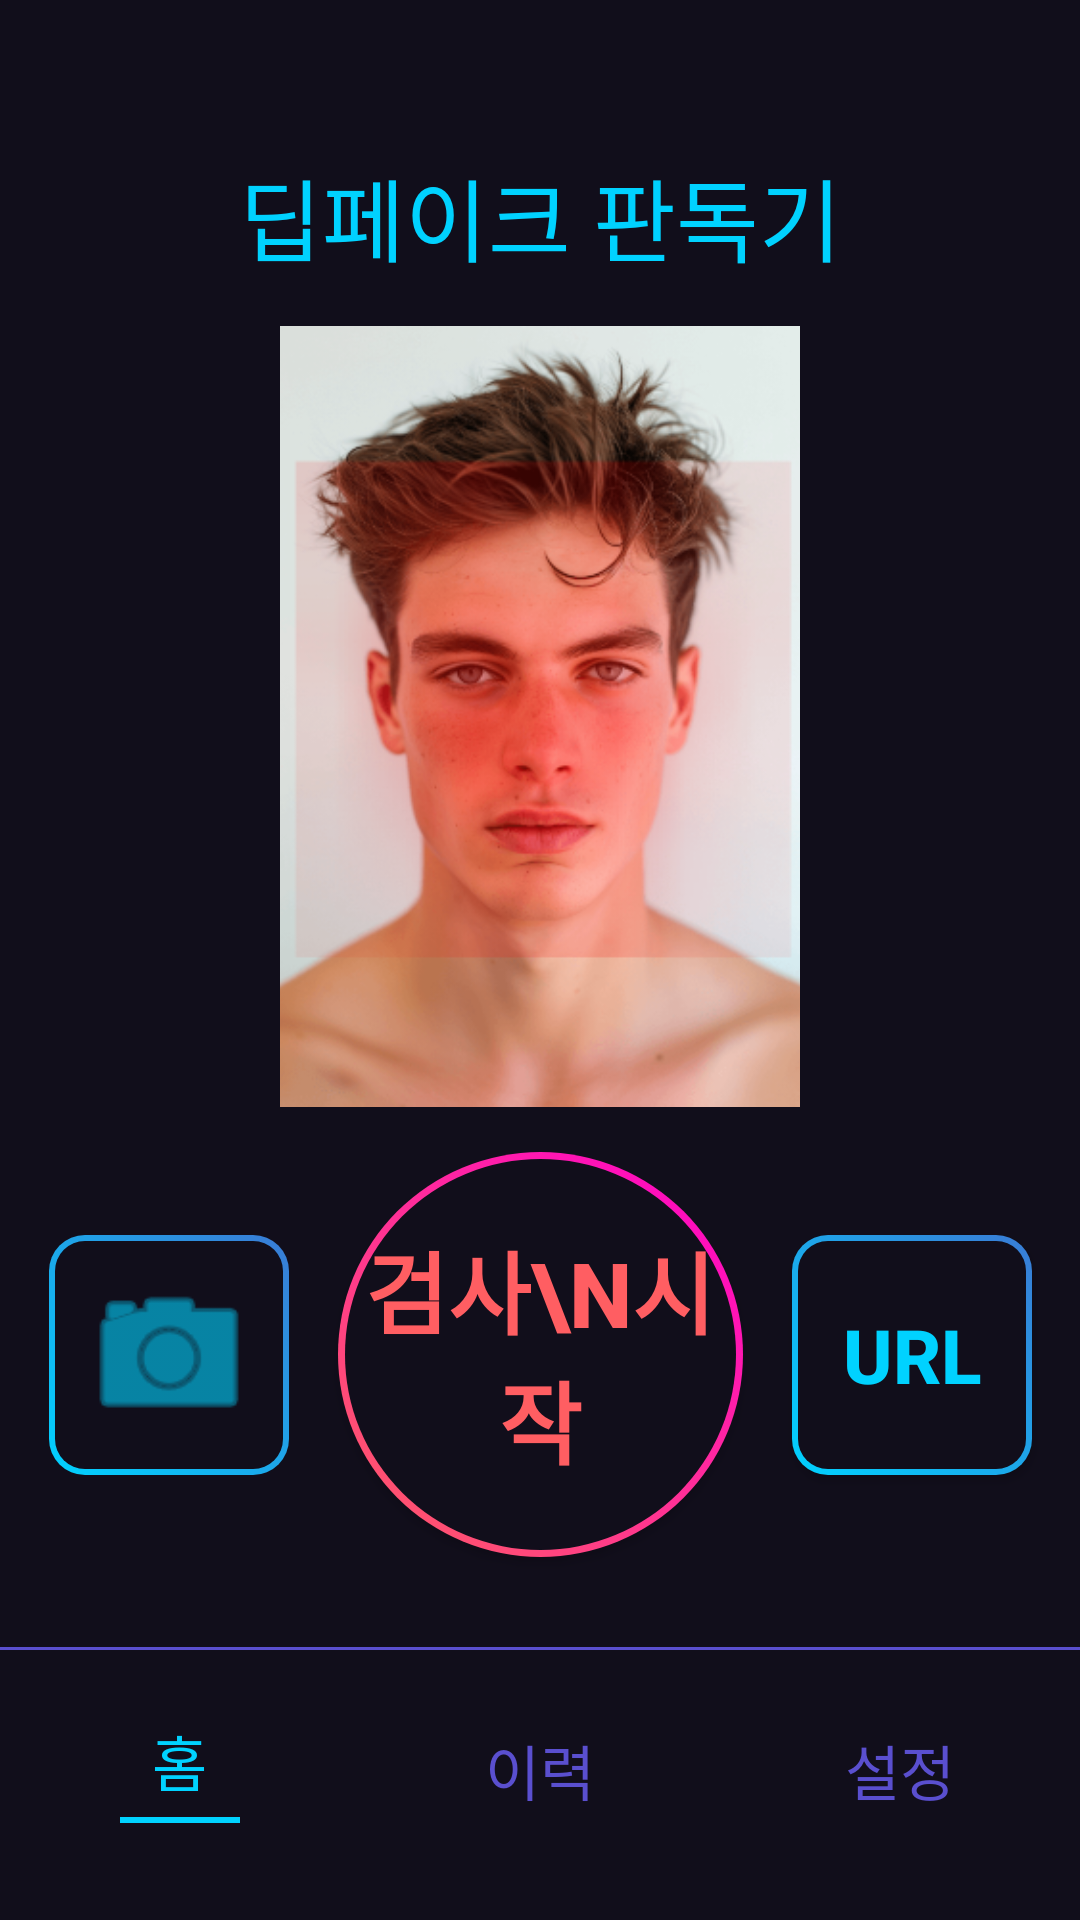

Named icons in this screenshot (1080x1920) and their centers, (x,y):
camera: (169,1355)
